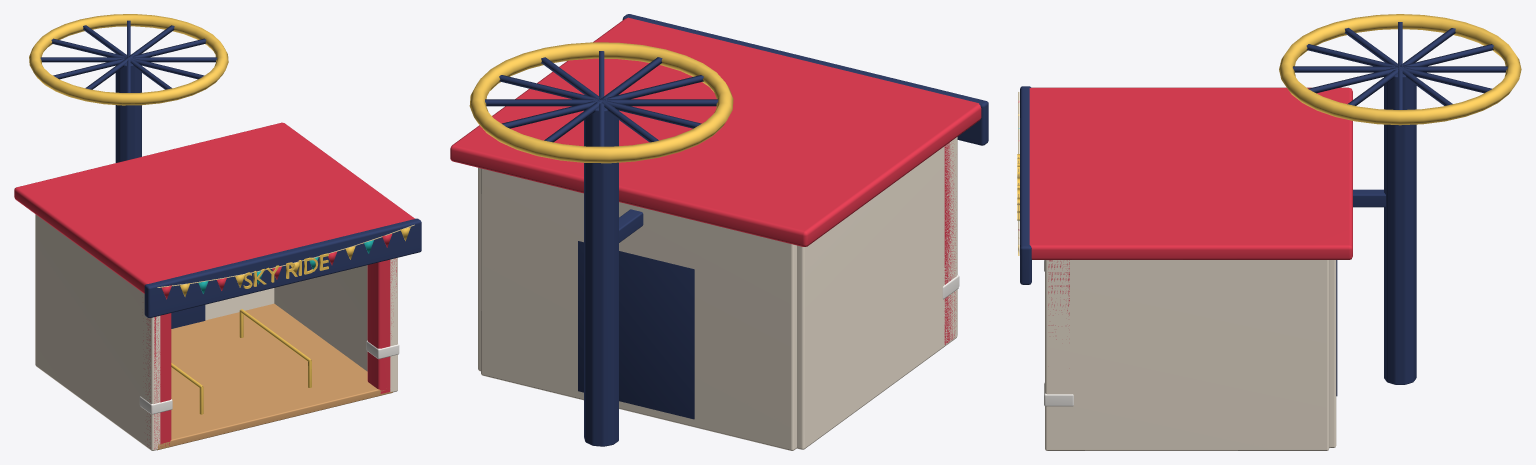
The model's file is sky_ride_station.glb.
3 renders of one model, left to right at view 1: azimuth 30°, elevation 25°; view 2: azimuth 150°, elevation 25°; view 3: azimuth 270°, elevation 25°, orthographic. The views are drawn at different scales.
Parts seen in each view (by area): view 1: RideStation; view 2: RideStation; view 3: RideStation.
Part boxes in pixels (x1,y1,x2,y2): RideStation: (14, 14, 421, 450); RideStation: (450, 14, 988, 450); RideStation: (1017, 14, 1521, 450).
Bounding box in the file's own units: 8.1 × 7.34 × 10.64.
